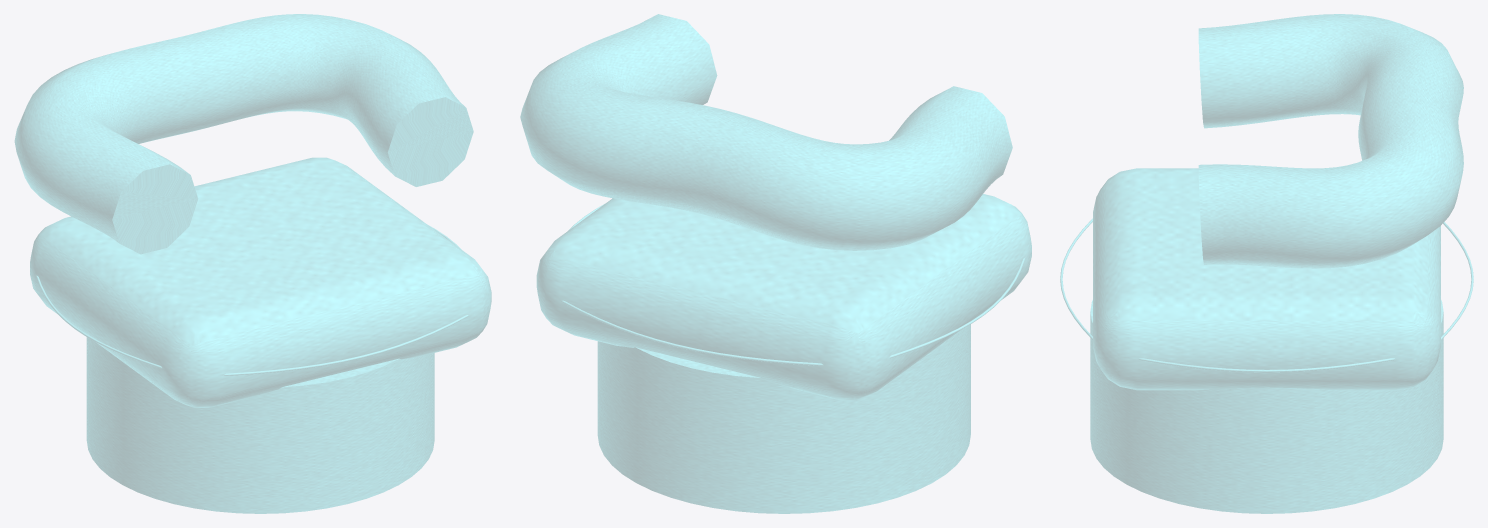
File: ref02_05.glb
3 renders of one model, left to right at view 1: azimuth 30°, elevation 25°; view 2: azimuth 150°, elevation 25°; view 3: azimuth 270°, elevation 25°, orthographic. The views are drawn at different scales.
Parts seen in each view (by area): view 1: ref02_05; view 2: ref02_05; view 3: ref02_05.
Boxes of the visible parts, x1,y1,x2,y2 form: ref02_05: [14, 14, 491, 513]; ref02_05: [520, 14, 1031, 513]; ref02_05: [1060, 14, 1473, 513].
Bounding box in the file's own units: 0.9211 × 0.7782 × 0.8198.
1 material, 1 textured.
